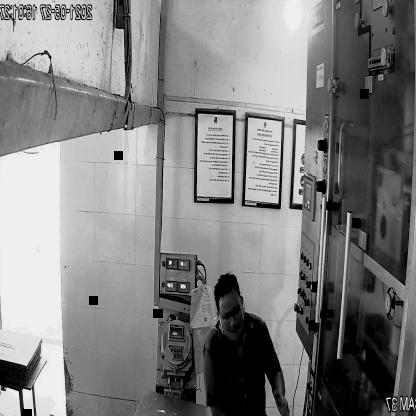goggles: (218, 294, 245, 330)
